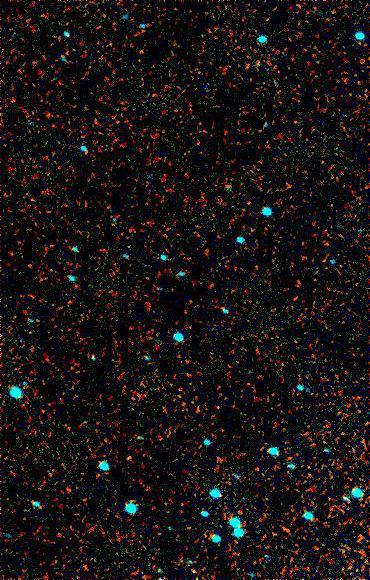star: (180, 558, 210, 580)
